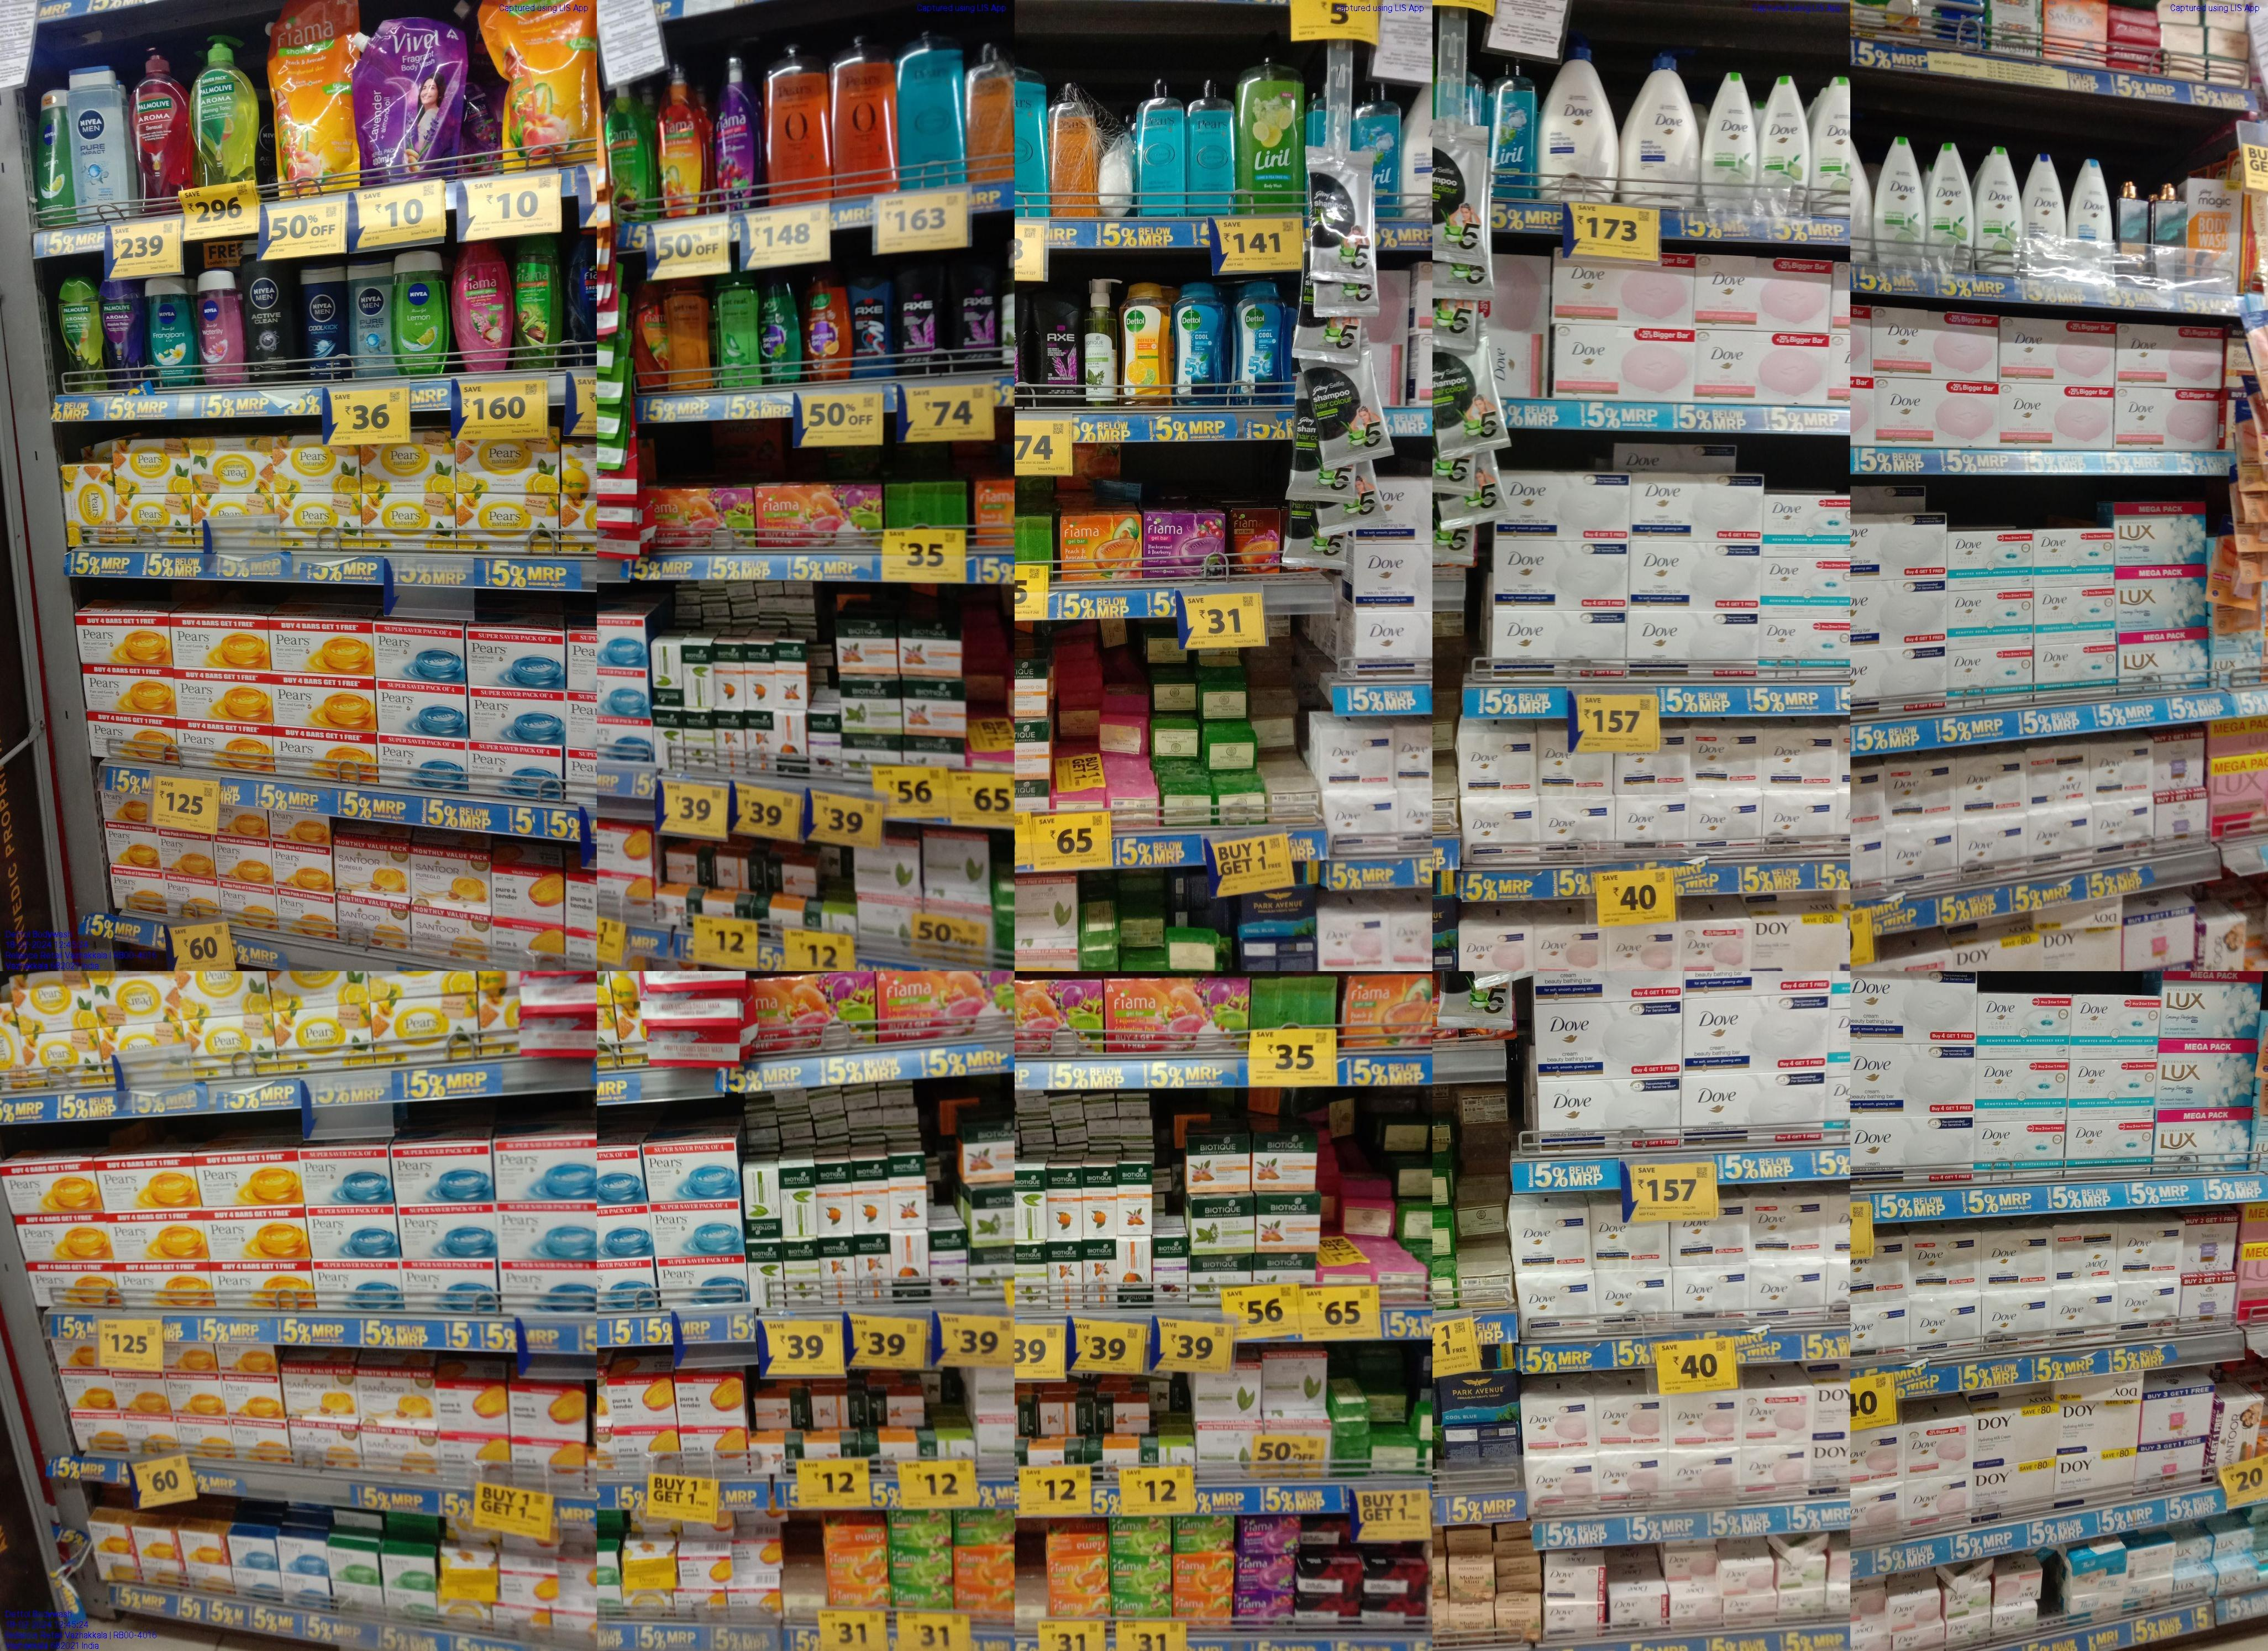Dettol_Bodywash_Cool: (1231, 278, 1284, 407), (1174, 282, 1227, 407)
Dettol_Bodywash_Refresh: (1120, 277, 1173, 405)
Dove_Refreshing_Body_Wash_250ML: (1701, 70, 1754, 210), (1926, 137, 1972, 270), (1877, 137, 1923, 264), (1757, 76, 1808, 189), (1976, 146, 2020, 275), (1812, 76, 1851, 217)
Fiama_Shower_Gel_Lemongrass_and_Jojoba_250ML: (512, 236, 560, 372)
Fiama_Shower_Gel_Patchouli_and_Macadamia_250ML: (456, 241, 509, 370)
Get_Real_Shower_Gel_Moisturising_Glycerin_300ML: (664, 277, 711, 389)
Joy_Shower_Gel_Mandarin_and_Lemongrass_250ML: (801, 266, 851, 379)
Joy_Shower_Gel_Mint_and_Eucalyptus_250ML: (759, 266, 801, 384)
Nivea_Shower_Gel_Frangipani_and_Oil_250ML: (151, 277, 192, 386)
Nivea_Shower_Gel_Lemon_and_Oil_250ML: (391, 247, 449, 374), (35, 86, 74, 229)
Nivea_Shower_Gel_Waterlily_and_Oil_250ML: (195, 270, 245, 386)
Palmolive_Aroma_Morning_Tonic_Shower_Gel_250ML: (56, 275, 104, 395)
Palmolive_Aroma_Relax_250ML: (106, 280, 146, 389)
